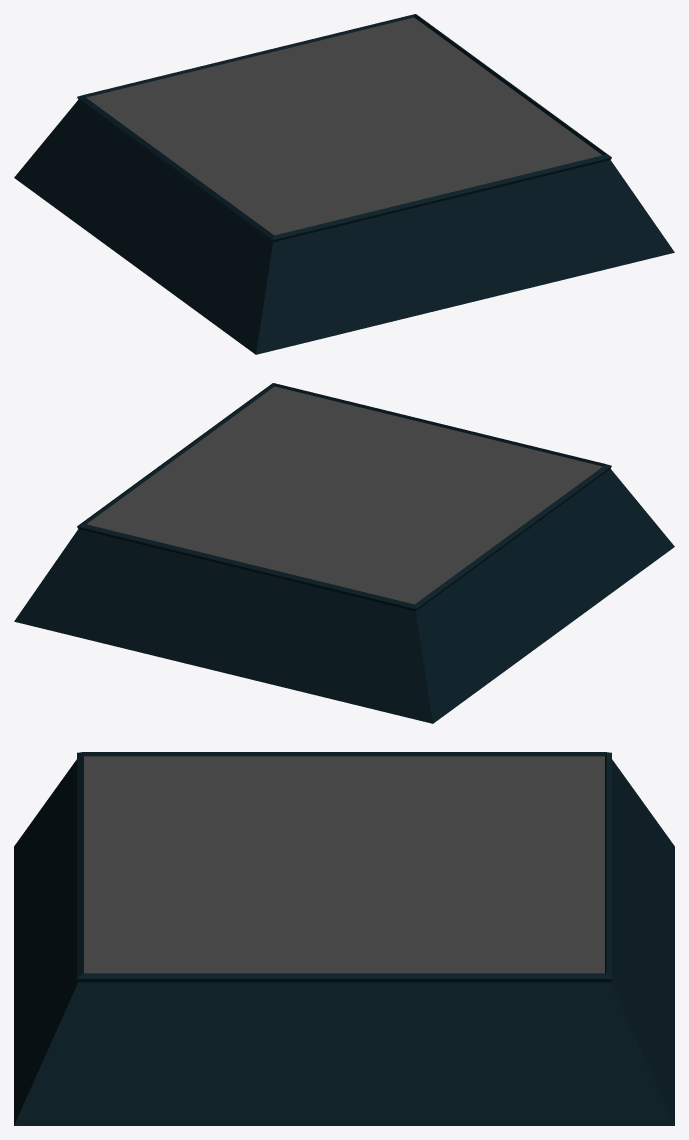
The model's file is Roof_1.fbx.
The picture shows the model from 3 angles, top to bottom: view 1: azimuth 30°, elevation 25°; view 2: azimuth 150°, elevation 25°; view 3: azimuth 270°, elevation 25°; orthographic projection. The views are drawn at different scales.
Parts seen in each view (by area): view 1: Roof_1; view 2: Roof_1; view 3: Roof_1.
Part boxes in pixels (bbox=[...]): Roof_1: bbox=[14, 14, 674, 354]; Roof_1: bbox=[14, 383, 674, 723]; Roof_1: bbox=[14, 752, 674, 1125].
Size of the model in its own units: 600 by 124 by 600.
